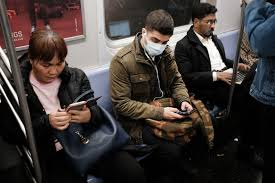masked: (134, 8, 179, 63)
unmasked: (23, 22, 70, 86), (188, 1, 220, 42)
